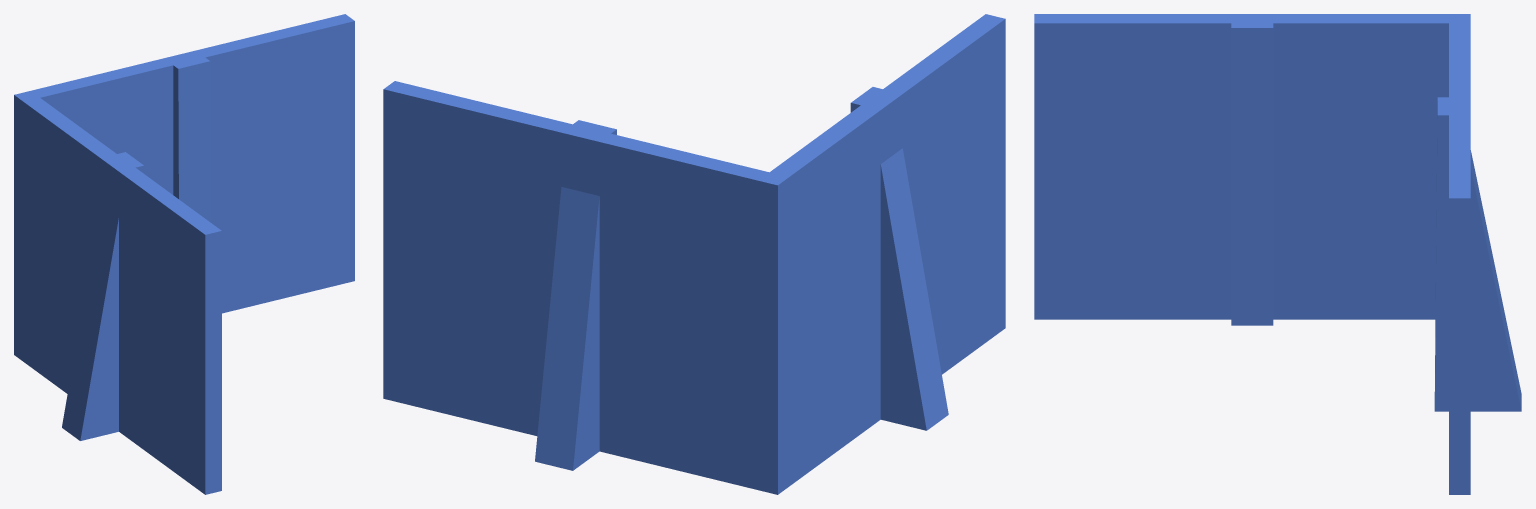
Rendered from WallAstra_Corner_Square_Outer_Collision.fbx.
3 views of the same model, side by side, from view 1: azimuth 30°, elevation 25°; view 2: azimuth 150°, elevation 25°; view 3: azimuth 270°, elevation 25° (orthographic). The views are drawn at different scales.
Visible parts, largest first — view 1: WallAstra_Corner_Square_Outer_Collision; view 2: WallAstra_Corner_Square_Outer_Collision; view 3: WallAstra_Corner_Square_Outer_Collision.
Boxes of the visible parts, bbox=[...] form: WallAstra_Corner_Square_Outer_Collision: bbox=[14, 14, 354, 494]; WallAstra_Corner_Square_Outer_Collision: bbox=[383, 14, 1005, 494]; WallAstra_Corner_Square_Outer_Collision: bbox=[1034, 14, 1521, 494].
Size of the model in its own units: 447 by 300 by 447.
